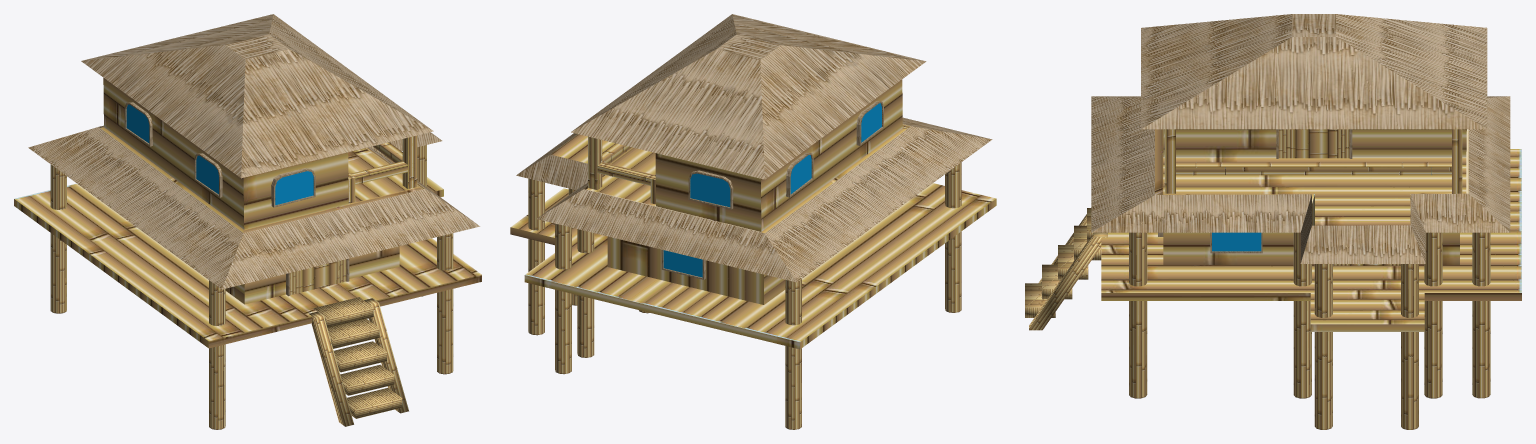
Rendered from CajaCasa 3.4.fbx.
3 renders of one model, left to right at view 1: azimuth 30°, elevation 25°; view 2: azimuth 150°, elevation 25°; view 3: azimuth 270°, elevation 25°, orthographic. The views are drawn at different scales.
Parts seen in each view (by area): view 1: Cube.004; view 2: Cube.004; view 3: Cube.004.
Part boxes in pixels (bbox=[...]): Cube.004: bbox=[14, 14, 481, 429]; Cube.004: bbox=[510, 14, 996, 429]; Cube.004: bbox=[1025, 14, 1521, 429].
Size of the model in its own units: 1040 by 868 by 1247.
Materials: 32 (24 with a texture image).
